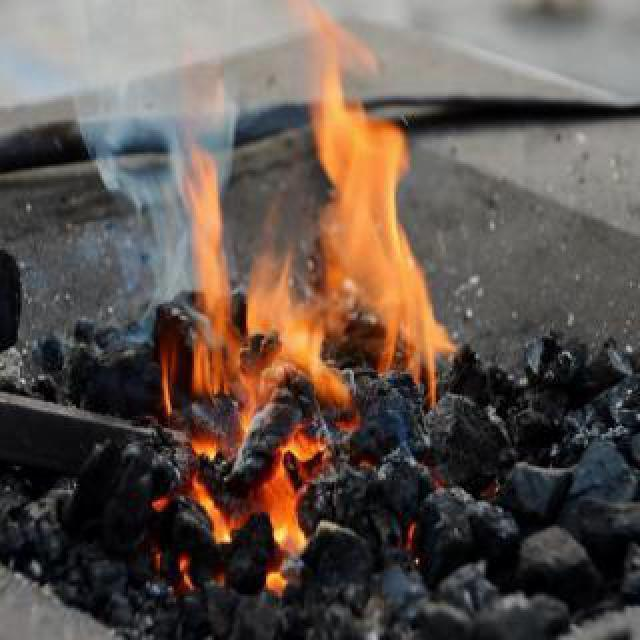Fire: (151, 147, 357, 564), (288, 1, 458, 390)
Smoke: (65, 35, 235, 307)
